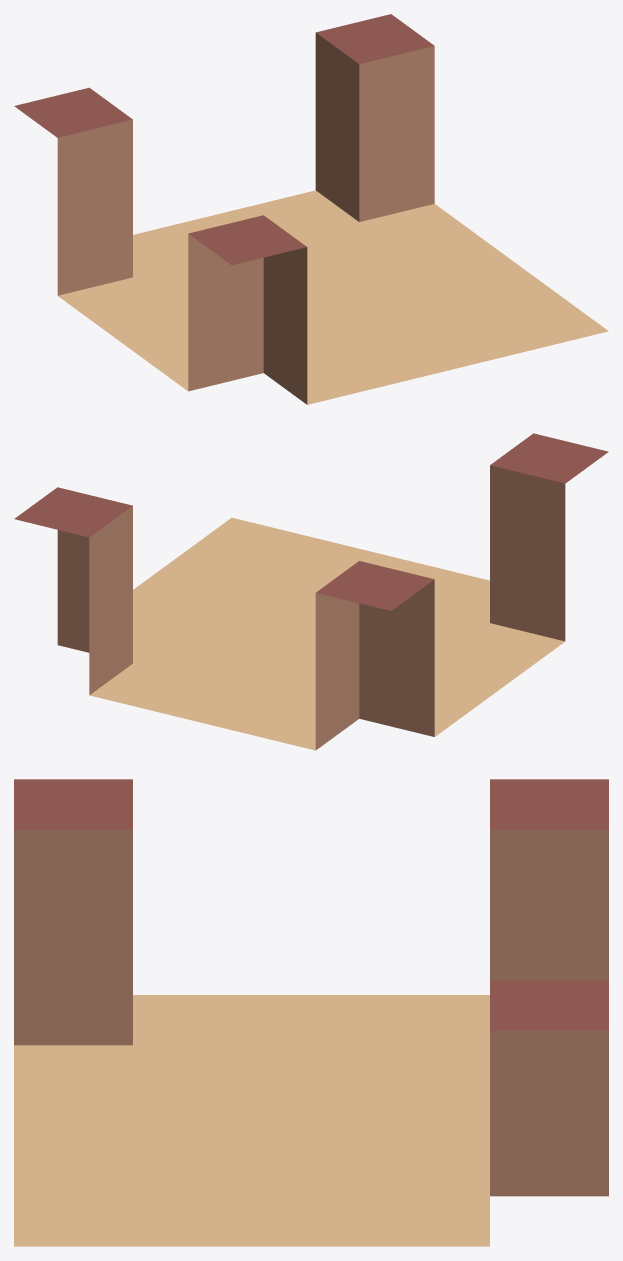
File: SM_Tile_Tips_L.fbx
3 renders of one model, top to bottom at view 1: azimuth 30°, elevation 25°; view 2: azimuth 150°, elevation 25°; view 3: azimuth 270°, elevation 25°, orthographic. The views are drawn at different scales.
Parts seen in each view (by area): view 1: SM_Tile_Tips_L; view 2: SM_Tile_Tips_L; view 3: SM_Tile_Tips_L.
Boxes of the visible parts, <box> form: SM_Tile_Tips_L: <box>14,14,608,404</box>; SM_Tile_Tips_L: <box>14,433,608,750</box>; SM_Tile_Tips_L: <box>14,779,608,1246</box>.
Size of the model in its own units: 500 by 200 by 500.
